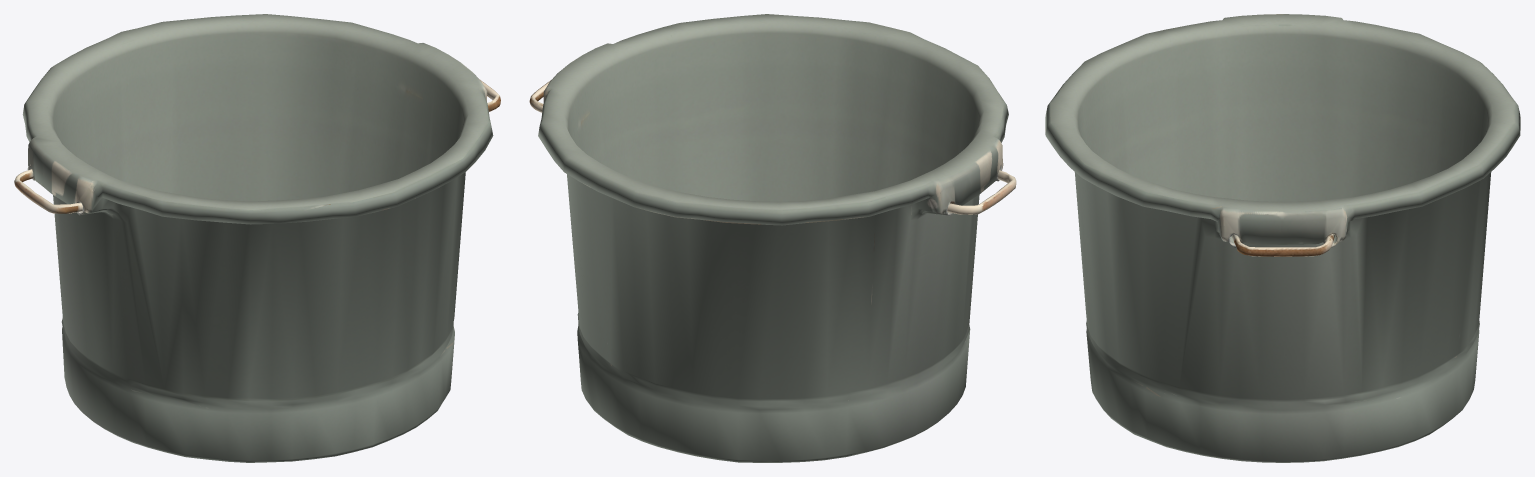
File: muck_tub.glb
3 renders of one model, left to right at view 1: azimuth 30°, elevation 25°; view 2: azimuth 150°, elevation 25°; view 3: azimuth 270°, elevation 25°, orthographic.
Visible parts, largest first — view 1: muck_tub; view 2: muck_tub; view 3: muck_tub.
Boxes of the visible parts, bbox=[...] form: muck_tub: bbox=[14, 14, 500, 462]; muck_tub: bbox=[529, 14, 1016, 462]; muck_tub: bbox=[1045, 14, 1520, 462].
Size of the model in its own units: 0.7935 by 0.45 by 0.7176.
1 material, 1 textured.
